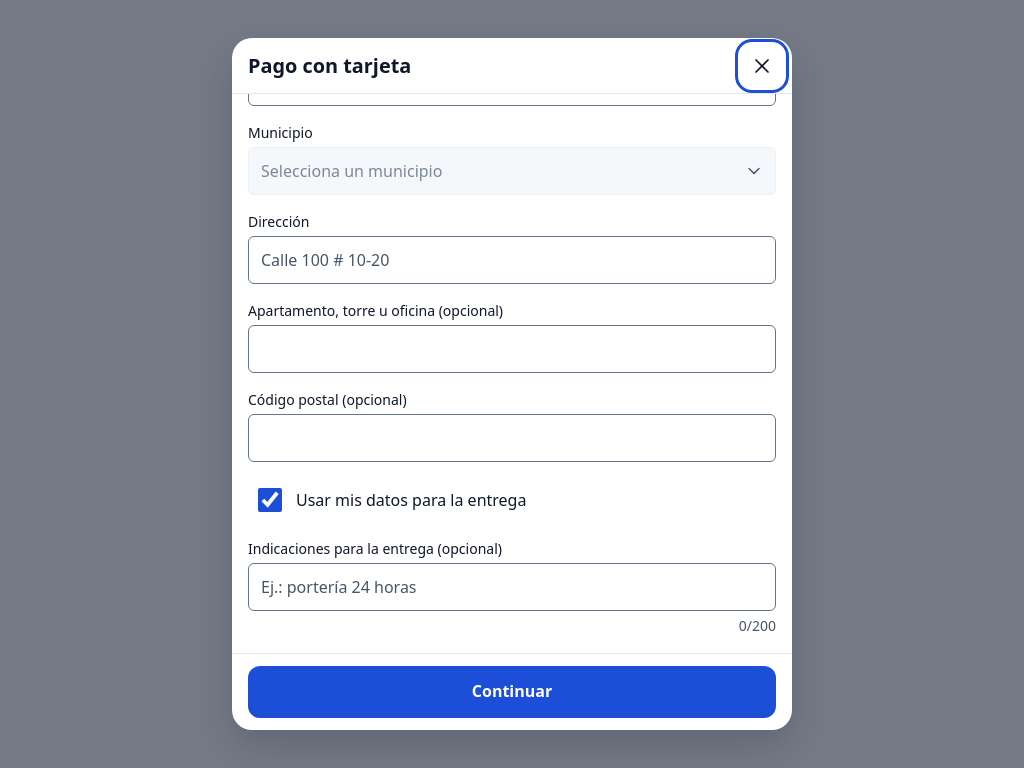
Scenario: CheckoutModal › counts the characters of the delivery notes
The image size is (1024, 768).
(page scrolled)
Expected: the text "0/200" is shown, [739,616,776,635]
Type "Portería" into the field labelled "Indicaciones para la entrega (opcional)". click: (512, 587)
box: [248,563,776,611]
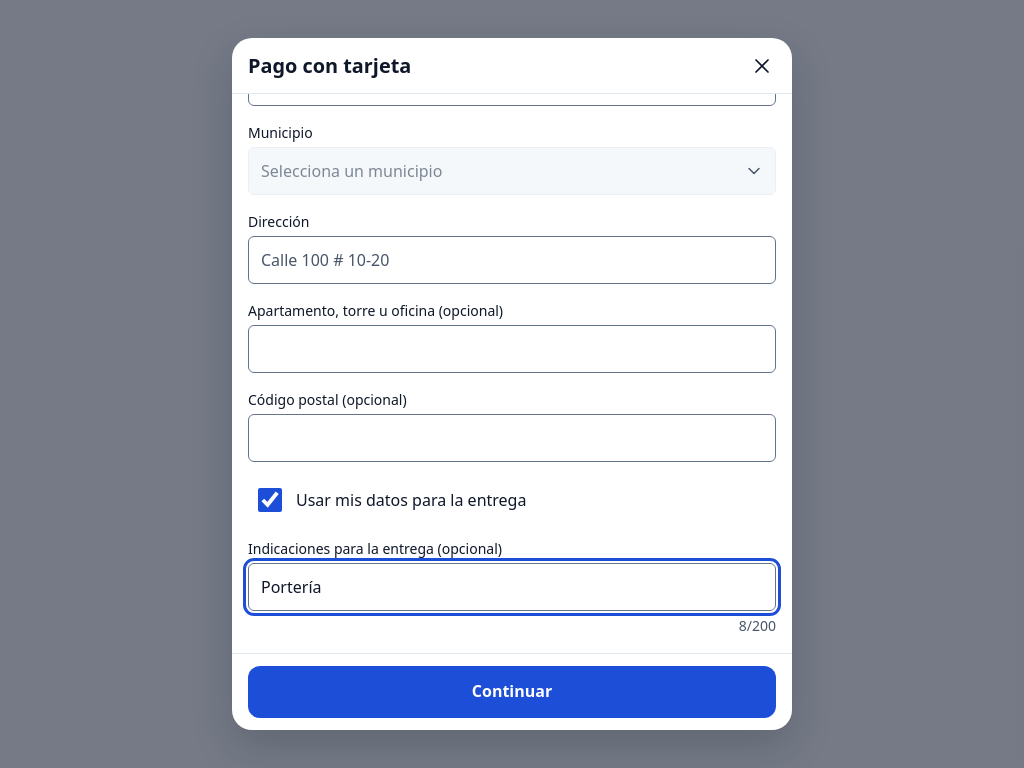
Now the text "8/200" is shown, box [739,616,776,635]
